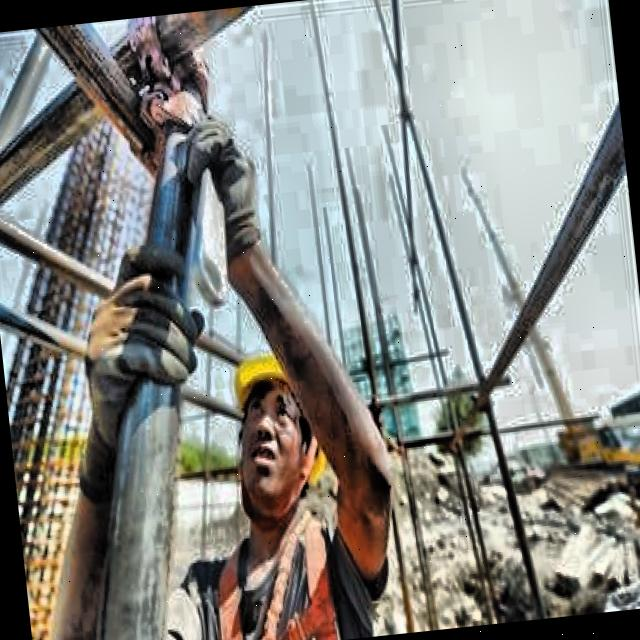helmet: (215, 320, 325, 534)
